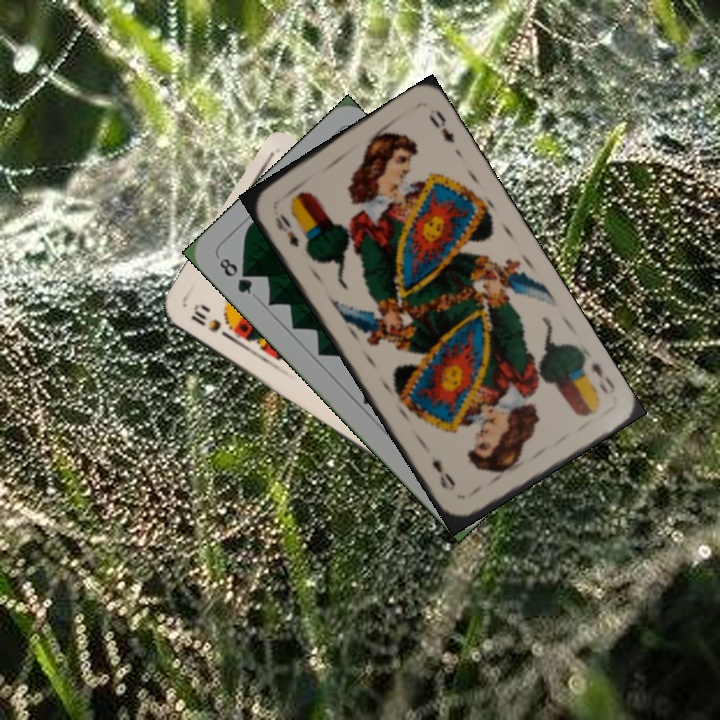EO: (270, 209, 302, 250), (587, 358, 618, 397)
G8: (215, 253, 256, 297)
S10: (186, 302, 234, 342)
